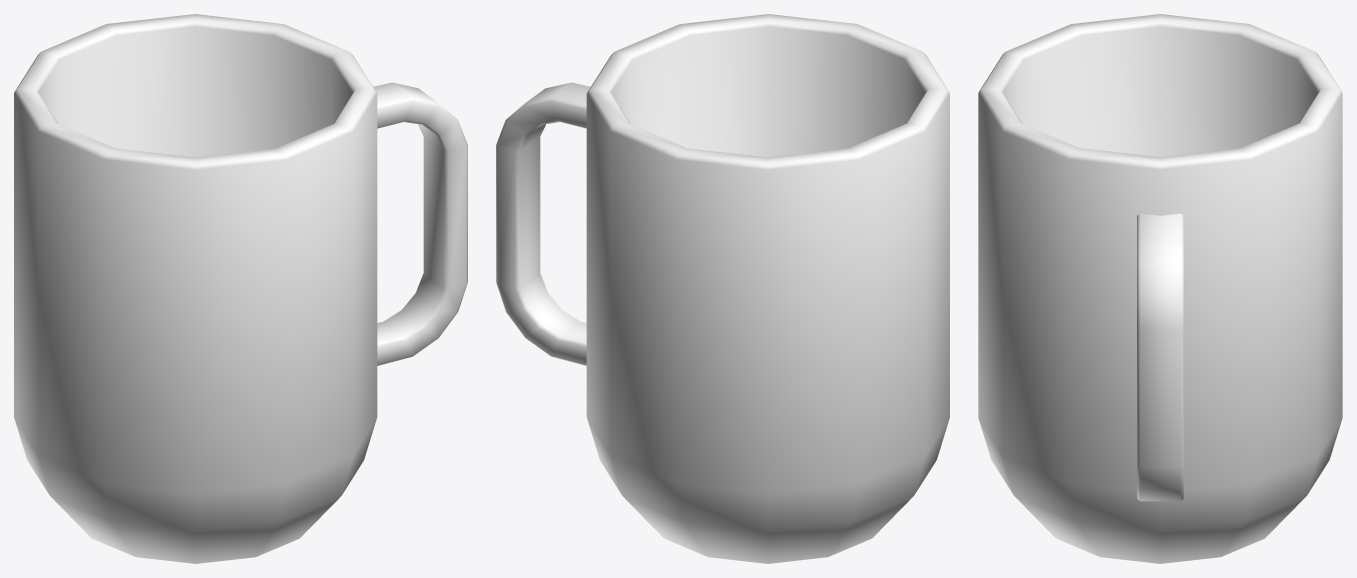
File: Cup.fbx
3 renders of one model, left to right at view 1: azimuth 30°, elevation 25°; view 2: azimuth 150°, elevation 25°; view 3: azimuth 270°, elevation 25°, orthographic.
Parts seen in each view (by area): view 1: Cup_LOD_0; view 2: Cup_LOD_0; view 3: Cup_LOD_0.
Part boxes in pixels (<box>): Cup_LOD_0: <box>14,14,467,563</box>; Cup_LOD_0: <box>496,14,949,563</box>; Cup_LOD_0: <box>978,14,1342,563</box>.
Size of what is drawn, in the model's own units: 10.9 by 10.52 by 8.2.
